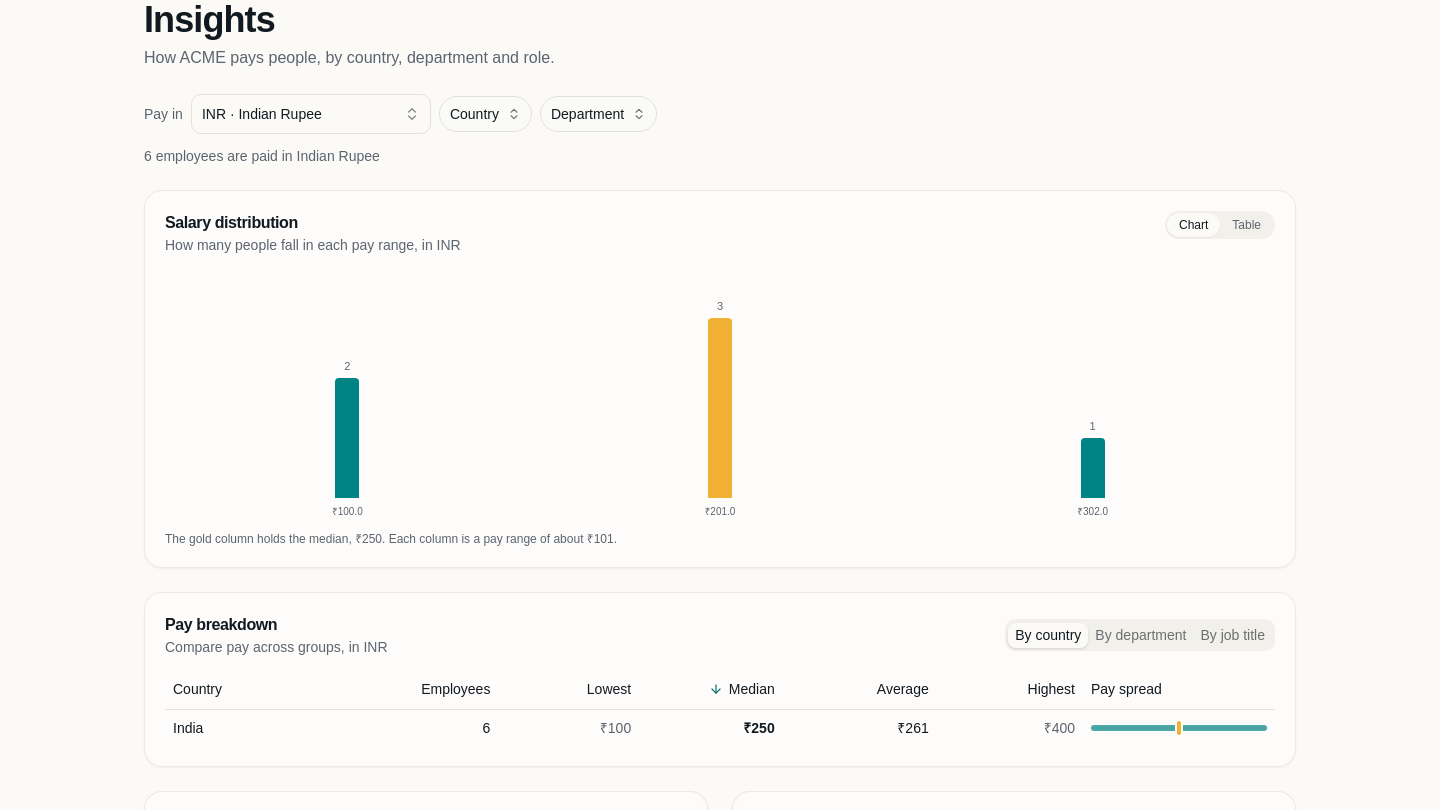
scope › choosing another currency changes every figure
Expected: the text "6 employees are paid in Indian Rupee" is shown, x1=144 y1=148 x2=380 y2=164
Click the dropdown named "Currency". click: [311, 114]
box: x1=191 y1=94 x2=431 y2=134
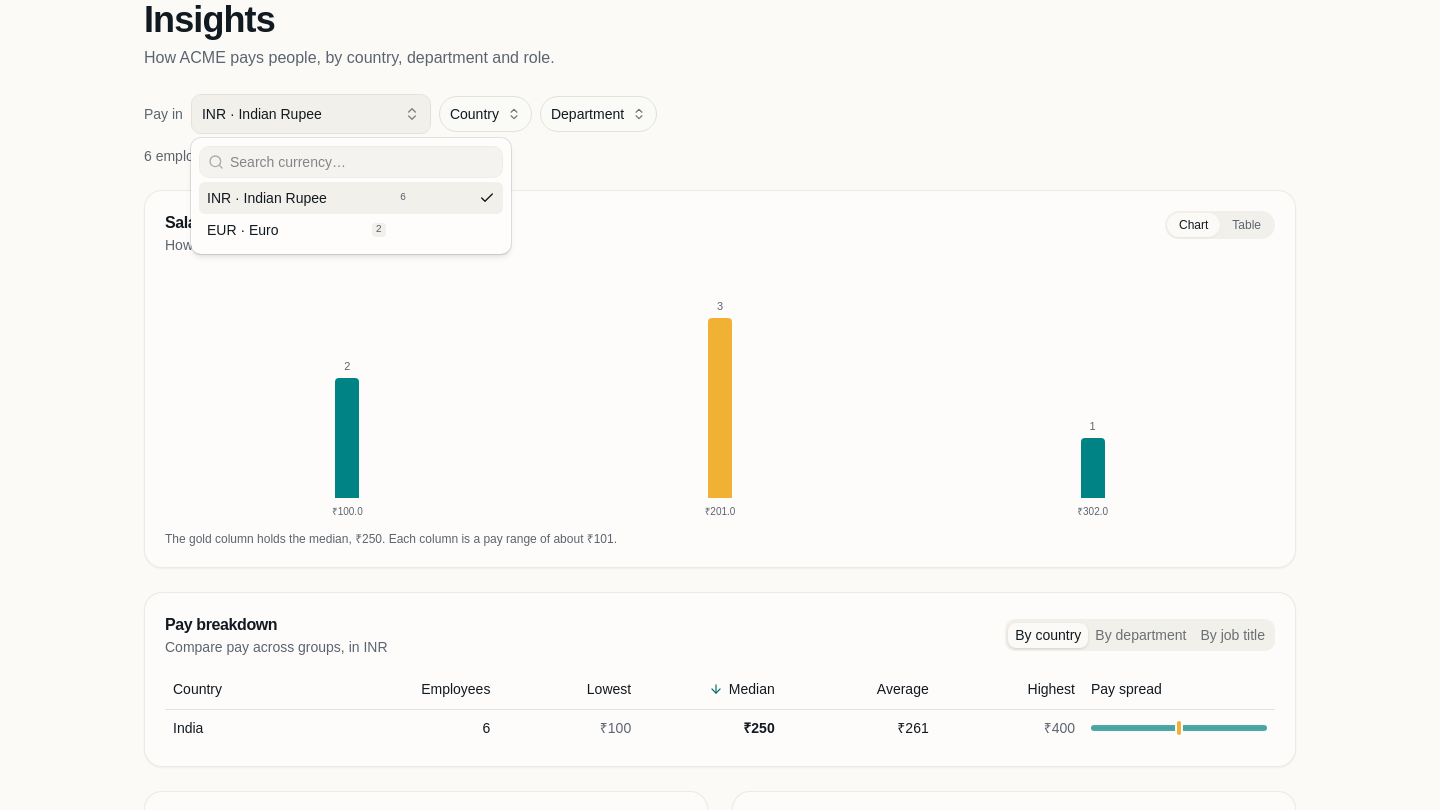
Click the option "EUR · Euro 2". click: [243, 230]
box: x1=207 y1=222 x2=386 y2=238
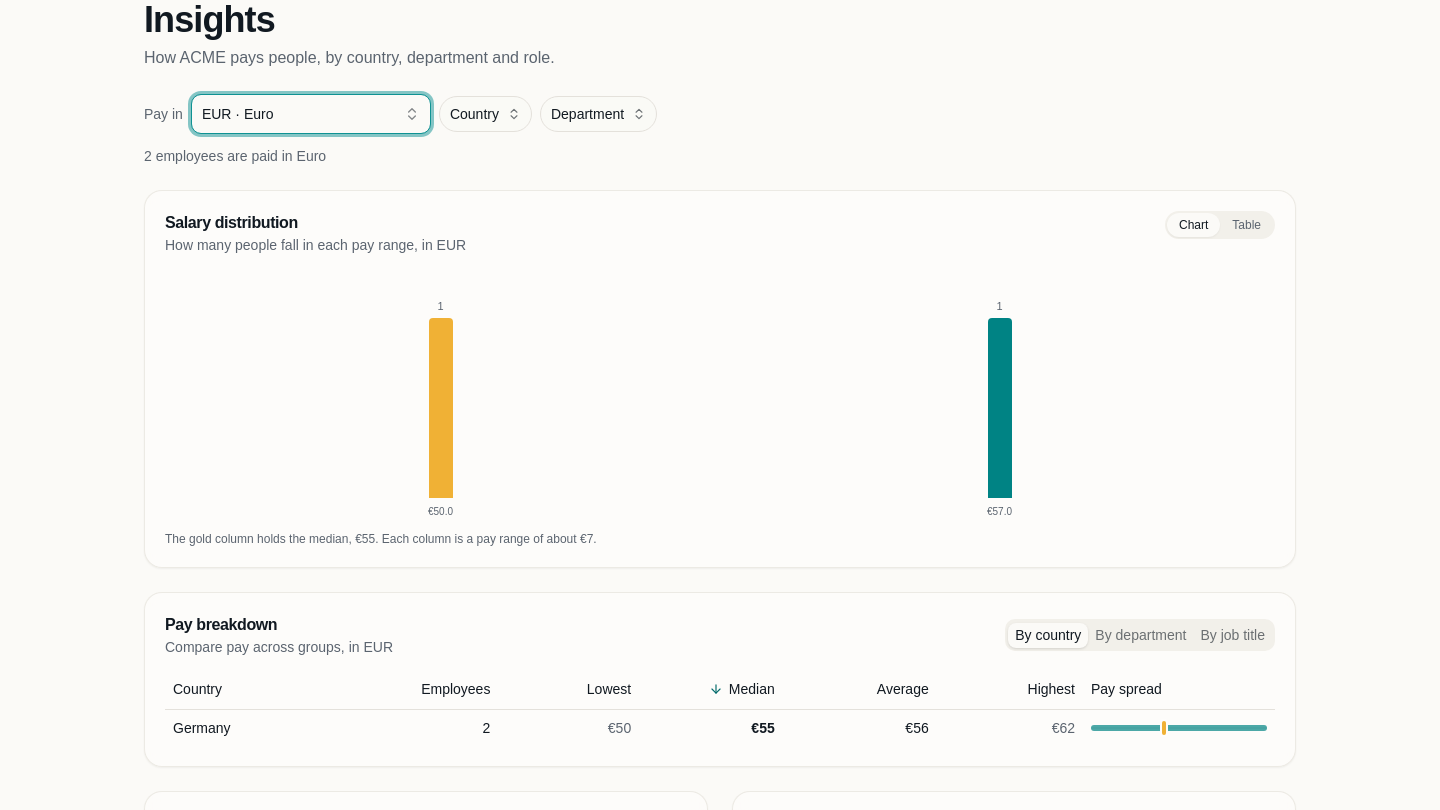
Expected: the text "2 employees are paid in Euro" is shown, x1=144 y1=148 x2=326 y2=164
